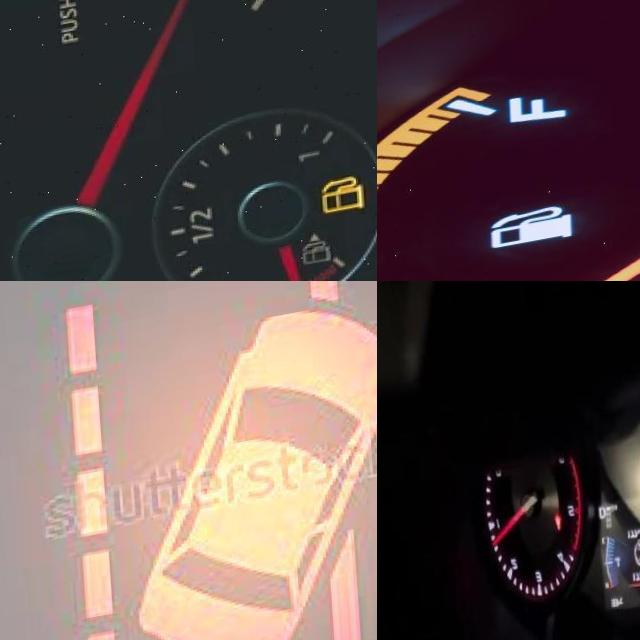Seat Belt: (549, 523, 558, 542)
